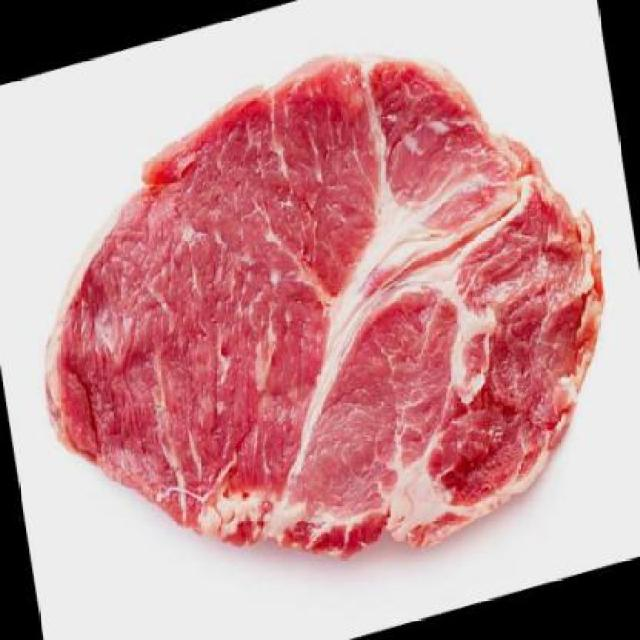beef: (2, 0, 639, 638)
